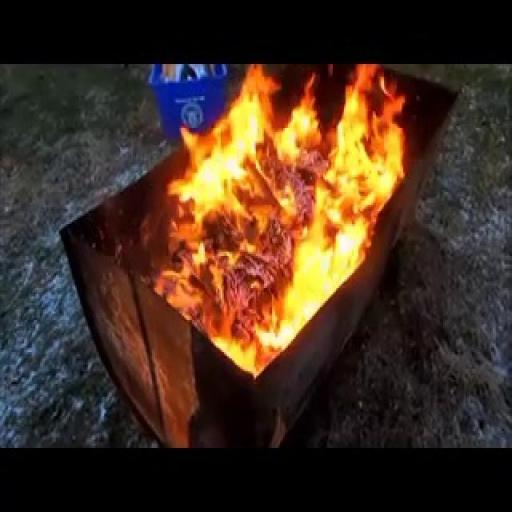smoke: (148, 66, 415, 388)
